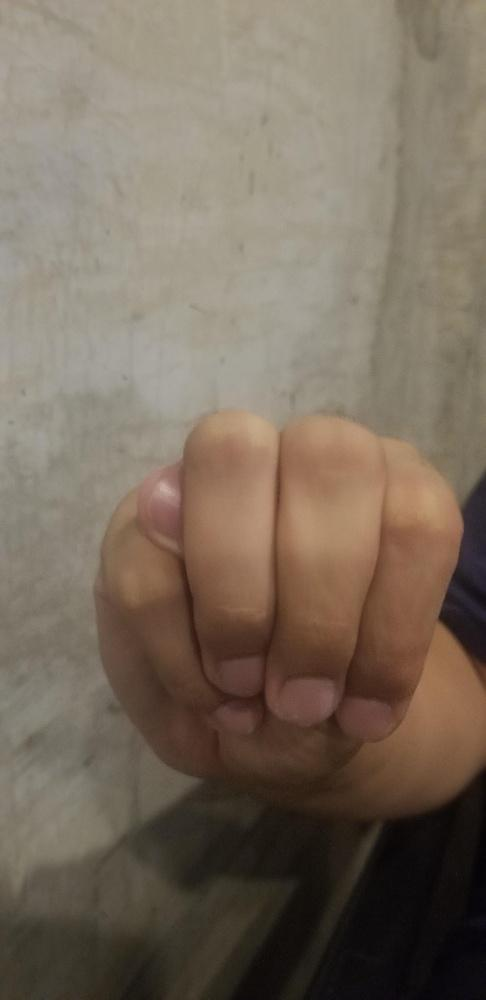m: (95, 408, 464, 782)
